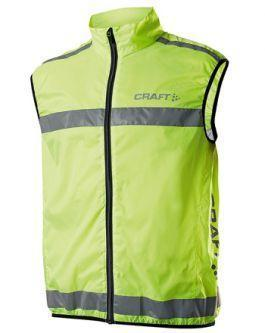vest: (27, 7, 227, 330)
